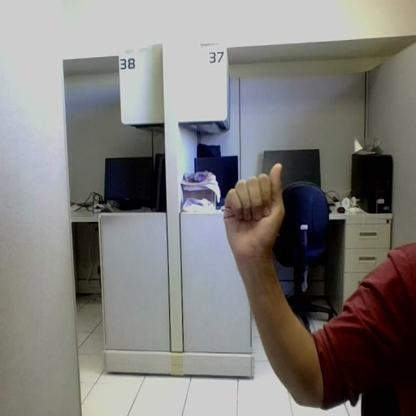A: (225, 163, 285, 254)
